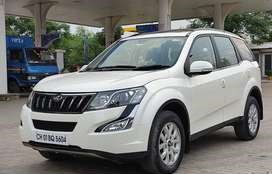CH01BQ5604: (34, 132, 69, 145)
